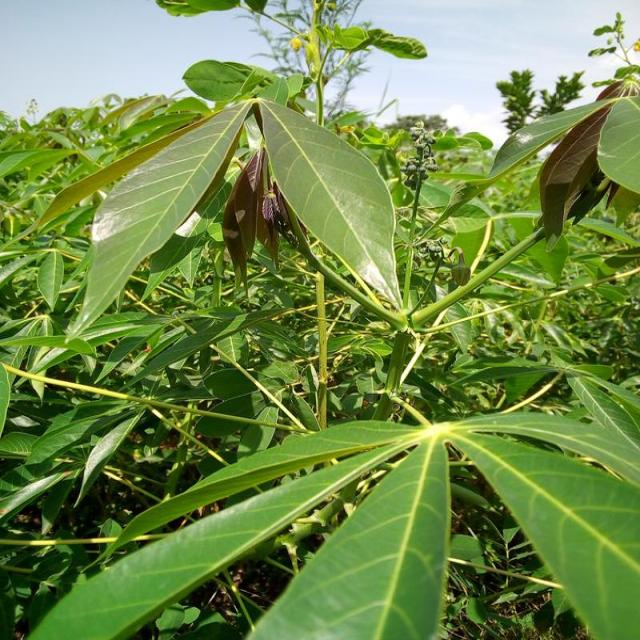cassava leaf: (63, 96, 256, 342), (243, 428, 452, 638), (449, 420, 638, 638), (254, 96, 403, 314)
